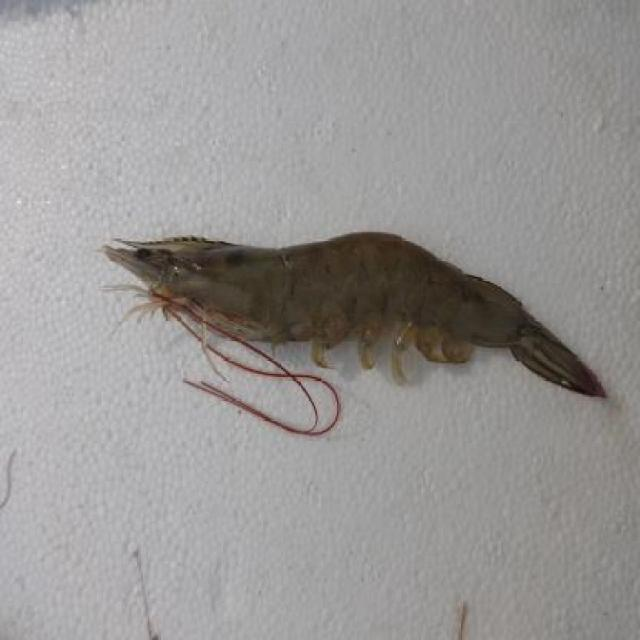shrimp: (104, 217, 628, 398)
